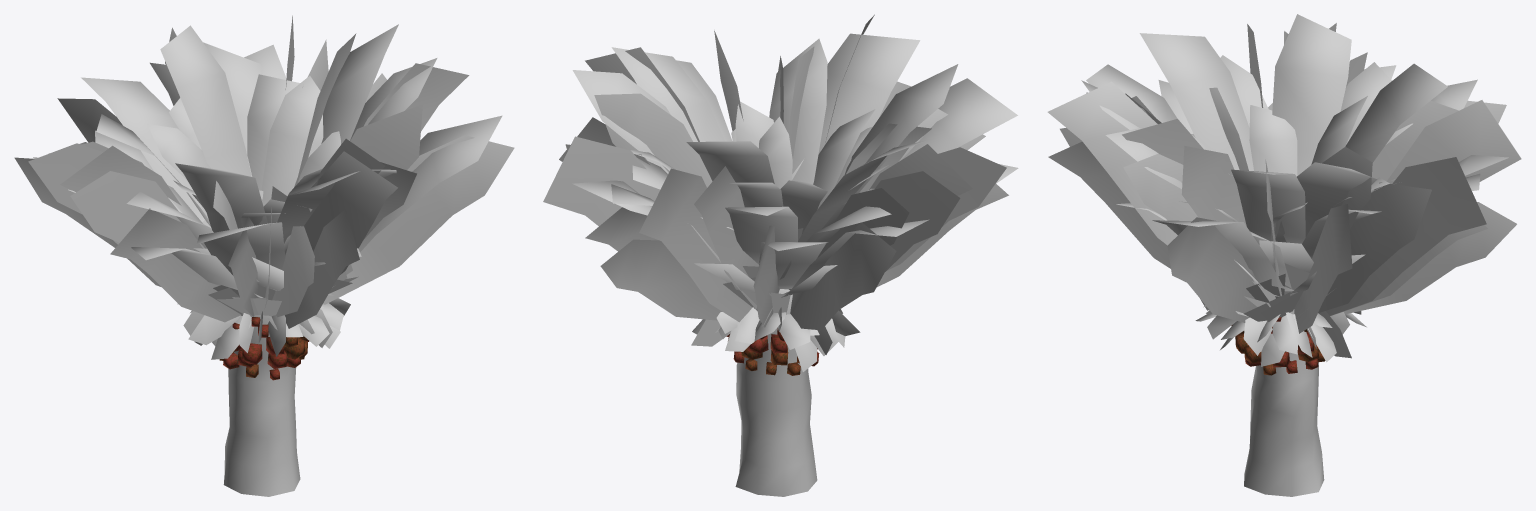
Rendered from Tree6_3_L2.fbx.
The picture shows the model from 3 angles, left to right: view 1: azimuth 30°, elevation 25°; view 2: azimuth 150°, elevation 25°; view 3: azimuth 270°, elevation 25°; orthographic projection.
Parts seen in each view (by area): view 1: polySurface97; view 2: polySurface97; view 3: polySurface97.
Boxes of the visible parts, left/top/right/bottom form: polySurface97: left=14, top=15, right=514, bottom=496; polySurface97: left=543, top=14, right=1018, bottom=496; polySurface97: left=1047, top=14, right=1521, bottom=496.
Bounding box in the file's own units: 689 × 631 × 682.
